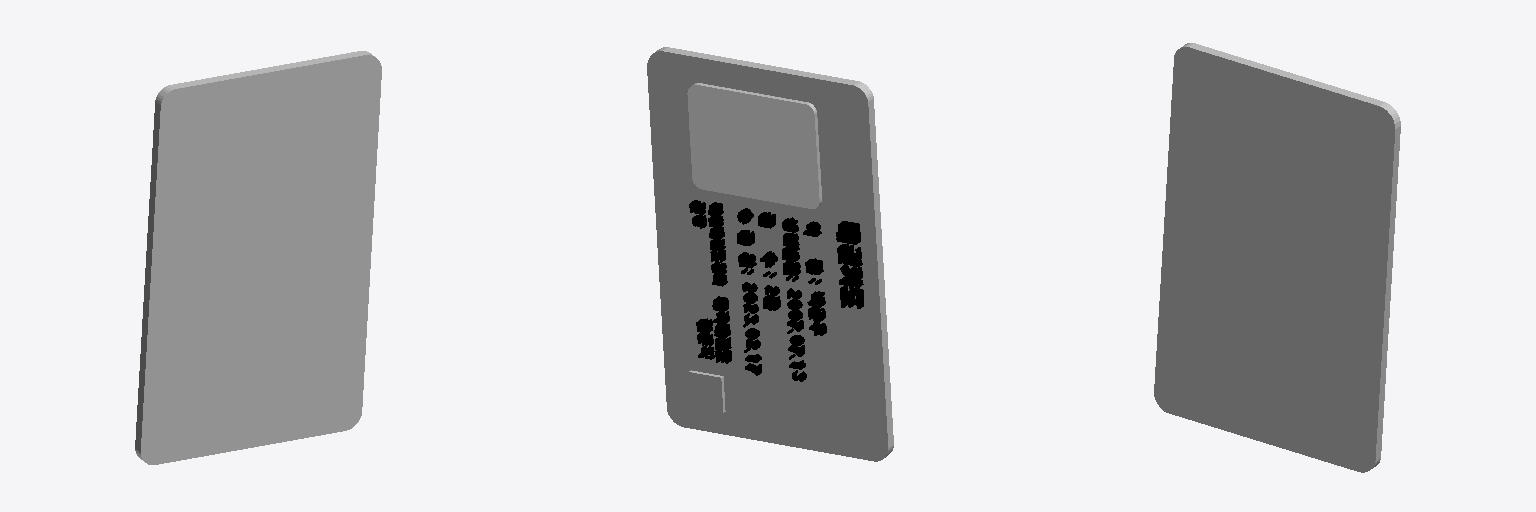
File: card_32.obj
The picture shows the model from 3 angles: view 1: azimuth 30°, elevation 25°; view 2: azimuth 150°, elevation 25°; view 3: azimuth 330°, elevation 25°; orthographic projection.
Parts seen in each view (by area): view 1: Plane; view 2: Plane, Plane.001, Text.014, Text.001_Text.017, Cube; view 3: Plane.
Boxes of the visible parts, box(x1,y1,x2,y2) form: Plane: box(135, 51, 381, 464); Plane: box(647, 47, 893, 461); Plane.001: box(687, 83, 821, 208); Text.014: box(689, 200, 863, 375); Text.001_Text.017: box(692, 201, 862, 381); Cube: box(689, 370, 725, 412); Plane: box(1154, 43, 1400, 472).
Size of the model in its own units: 3.38 by 5.13 by 0.2598.